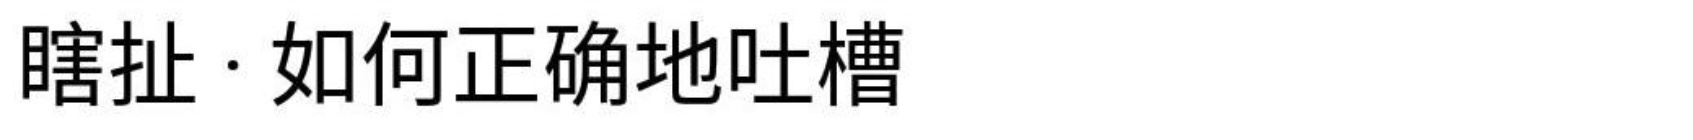TextView: (1, 1, 1692, 139)
